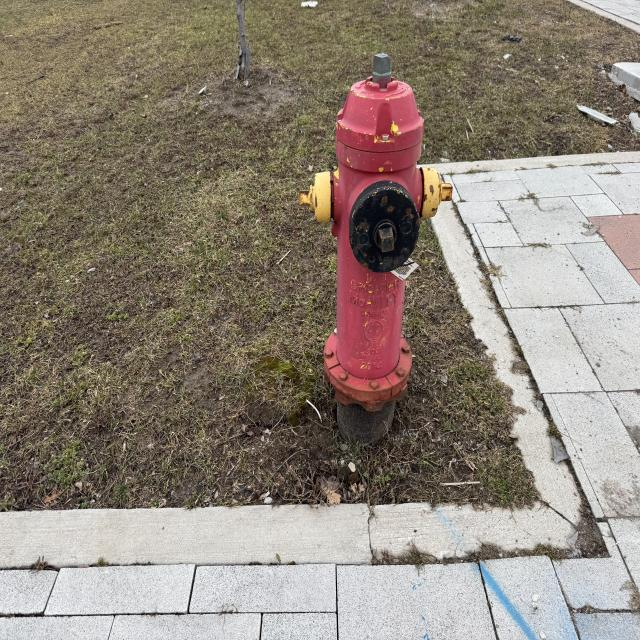Fire hydrant: (297, 52, 453, 414)
